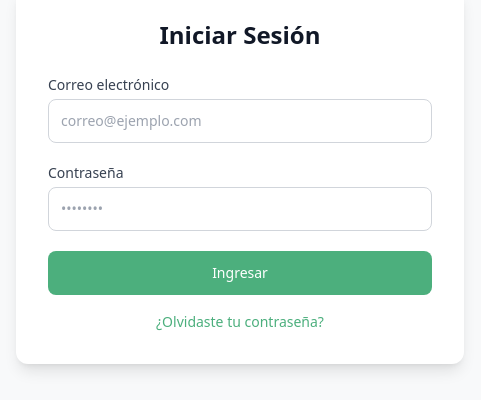
LoginPage › inline validation (Req 21.13) › shows email format validation for invalid email
The width and height of the screenshot is (481, 400).
In the field labelled "Correo electrónico": (240, 120) [48,98,432,142], type "invalid-email"
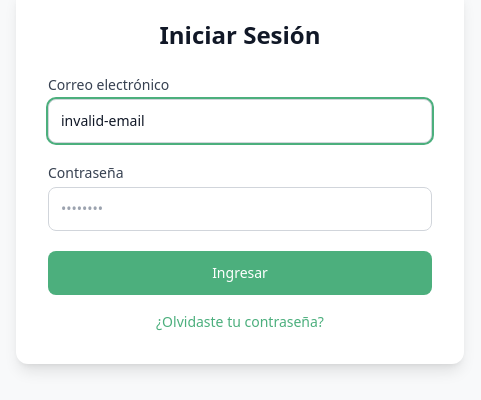
In the password field labelled "Contraseña": (240, 208) [48,186,432,230], type "password123"
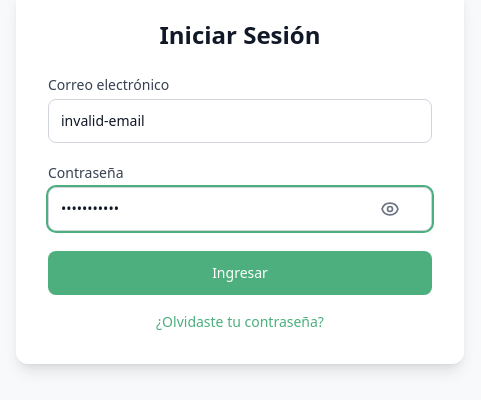
Click the button "Ingresar": click(240, 272) [48,250,432,294]
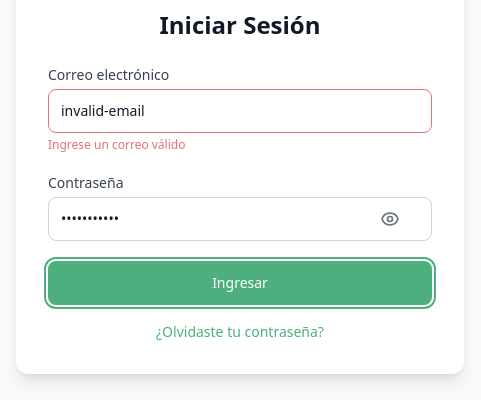
Now the text "Ingrese un correo válido" is shown, box [48,136,185,152]
